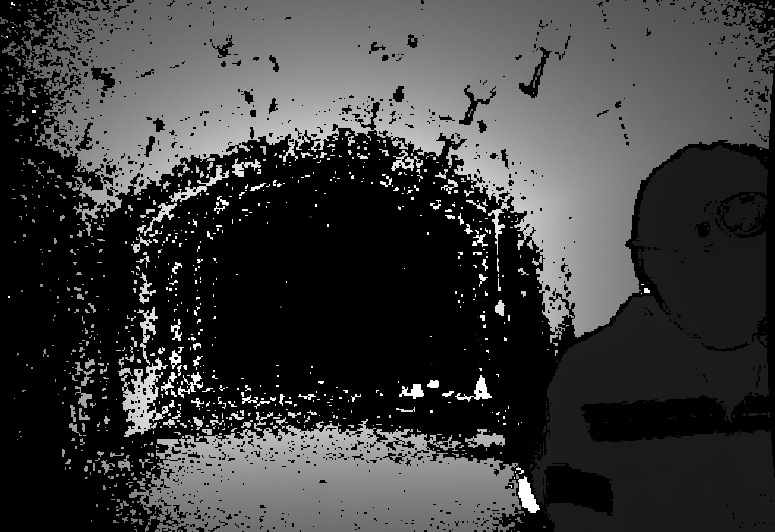person: (535, 116, 775, 532)
